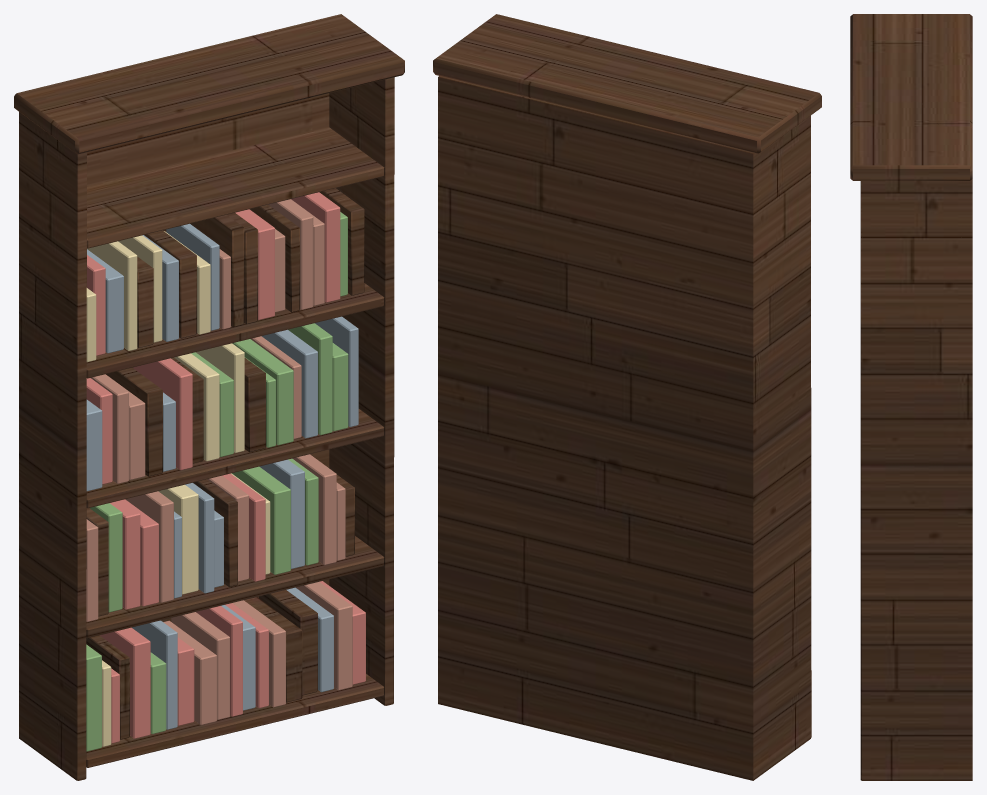
File: bookcase.glb
3 renders of one model, left to right at view 1: azimuth 30°, elevation 25°; view 2: azimuth 150°, elevation 25°; view 3: azimuth 270°, elevation 25°, orthographic. The views are drawn at different scales.
Visible parts, largest first — view 1: bookcase_dkwood, bookcase_rug, bookcase_quilt, bookcase_fabric, bookcase_green_v, bookcase_hay; view 2: bookcase_dkwood; view 3: bookcase_dkwood.
Boxes of the visible parts, bbox=[...] form: bookcase_dkwood: bbox=[14, 14, 404, 780]; bookcase_rug: bbox=[86, 199, 352, 725]; bookcase_quilt: bbox=[86, 192, 365, 743]; bookcase_fabric: bbox=[86, 223, 358, 729]; bookcase_green_v: bbox=[86, 212, 348, 751]; bookcase_hay: bbox=[86, 231, 270, 746]; bookcase_dkwood: bbox=[433, 14, 821, 780]; bookcase_dkwood: bbox=[850, 14, 972, 780].
Bounding box in the file's own units: 1.04 × 1.95 × 0.35.
6 materials, 1 textured.
